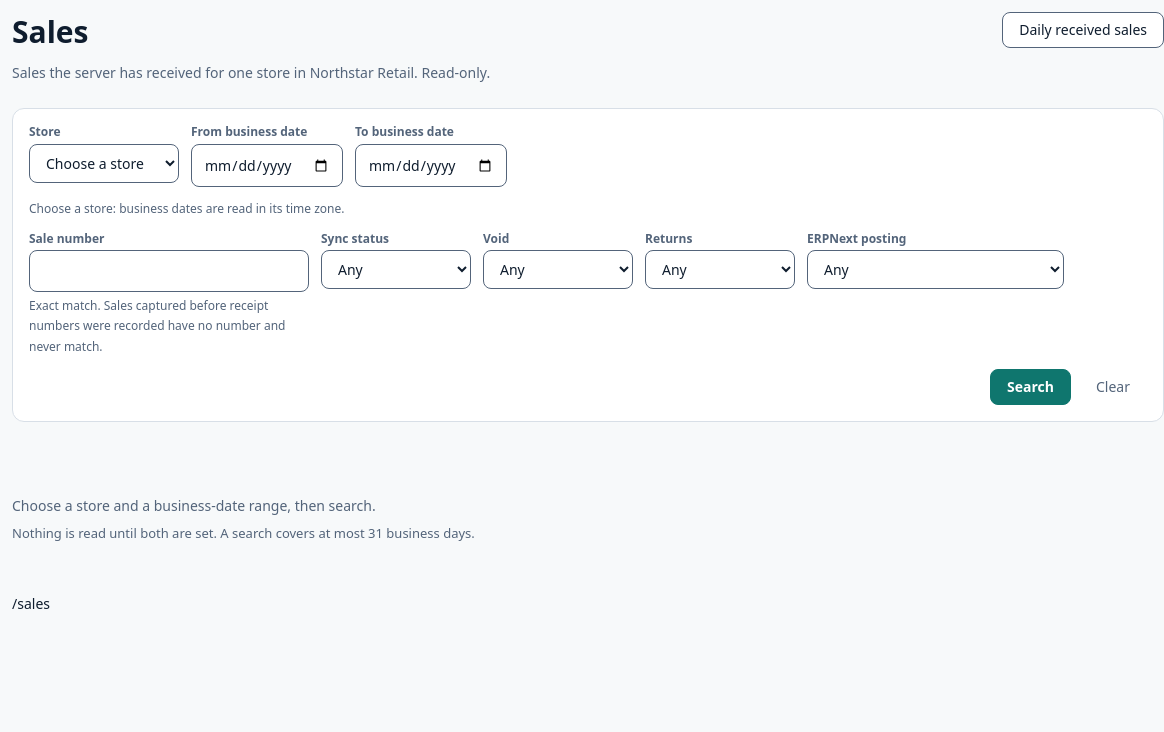
Test: SaleList (RT-587, spec 012 J1) › Search without a store or dates explains what is missing and reads nothing
Click the button "Search" at x=1031, y=387, box [990,369,1071,405]
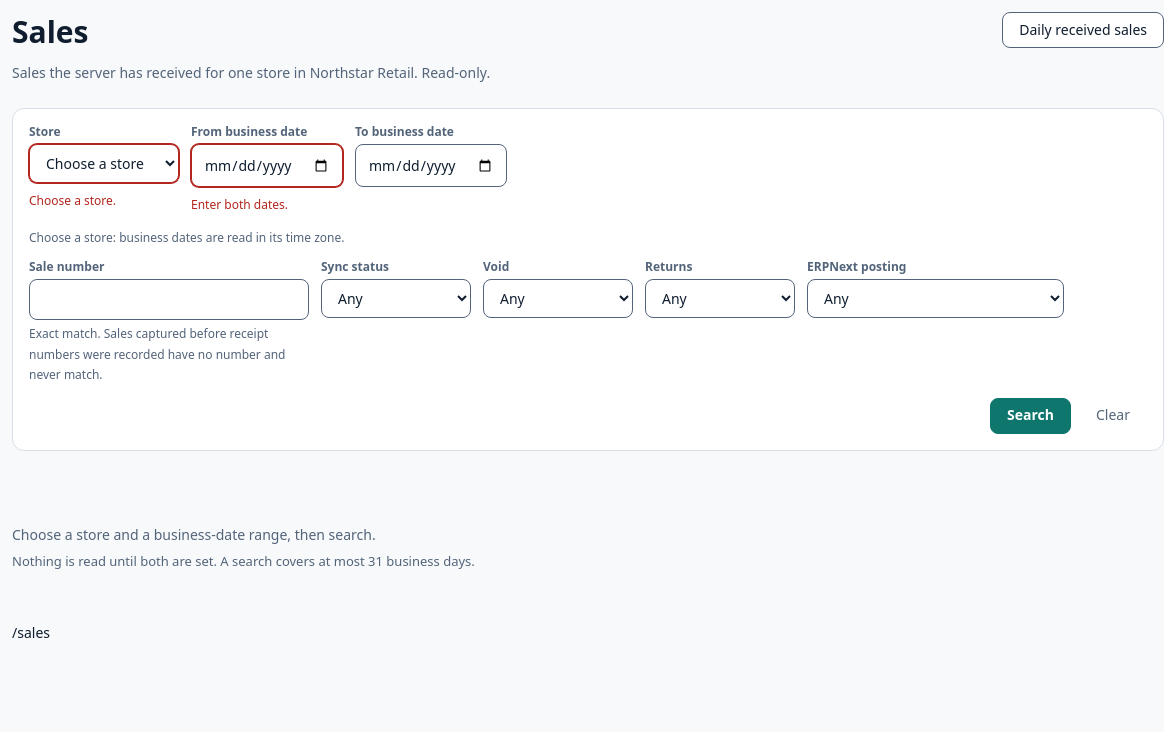
Now the text "Choose a store." is shown, box [29,192,116,209]
Now the text "Enter both dates." is shown, box [191,196,288,214]
